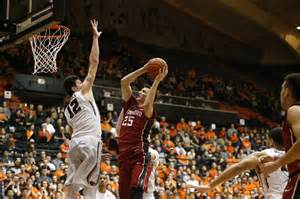basketball: (147, 57, 166, 78)
